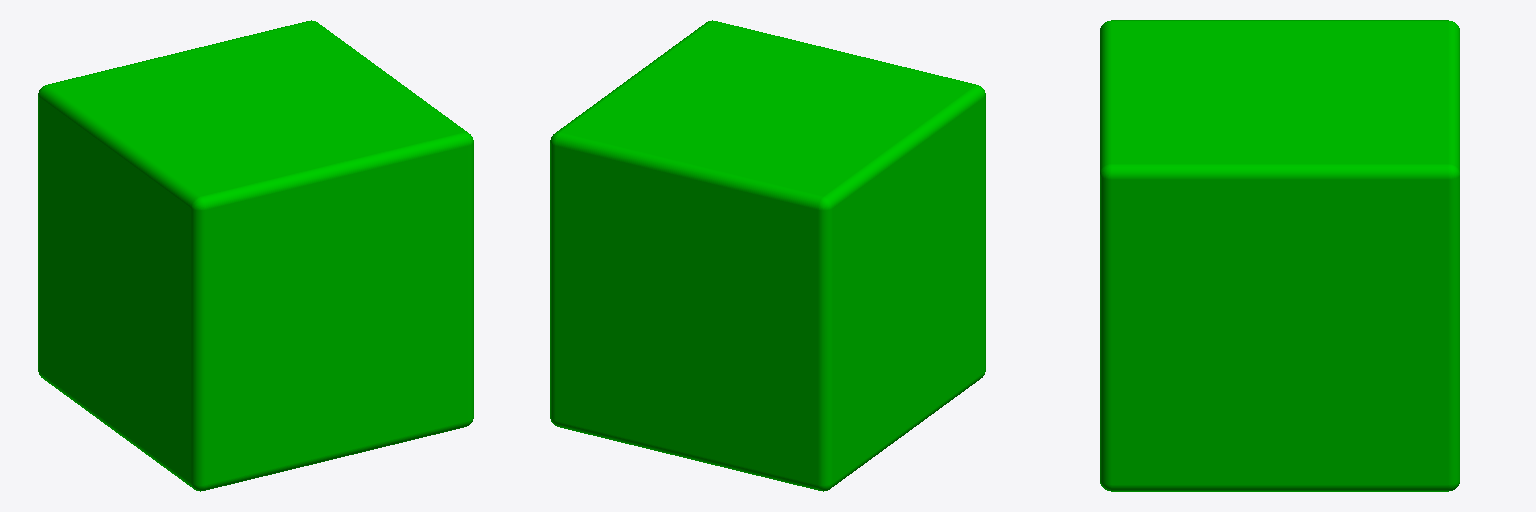
The robot description file, URDF, robot "real_cube_60mm_fillet":
<robot name="real_cube_60mm_fillet">
	<link name="object">
		<visual>
			<origin rpy="0.0 0.0 0.0" xyz="-0.6000000122150946 -0.5999999336499596 -0.5999999079672326" />
			<geometry>
				<mesh filename="real_cube_60mm_fillet/cube_fillet.obj" scale="0.02 0.02 0.02" />
			</geometry>
			<material name="texture">
				<color rgba="0 0.8 0.0 1.0" />
			</material>
		</visual>
		<collision>
			<origin rpy="0.0 0.0 0.0" xyz="-0.6000000122150946 -0.5999999336499596 -0.5999999079672326" />
			<geometry>
				<mesh filename="real_cube_60mm_fillet/cube_fillet_vhacd.obj" scale="0.02 0.02 0.02" />
			</geometry>
		</collision>
		<inertial>
			<mass value="0.010" />
			<inertia ixx="1.0" ixy="0.0" ixz="0.0" iyy="1.0" iyz="0.0" izz="1.0" />
		</inertial>
	</link>
</robot>

--- Facts derived from the render (not from the file) ---
Views: 3 orthographic renders of the robot side by side, from view 1: azimuth 30°, elevation 25°; view 2: azimuth 150°, elevation 25°; view 3: azimuth 270°, elevation 25°.
Model real_cube_60mm_fillet with 1 links and 0 joints (none), rooted at object, posed all joints at 0.
Links seen in each view (by area): view 1: object; view 2: object; view 3: object.
Boxes of the visible links, box(x1,y1,x2,y2) form: object: box(38, 20, 473, 491); object: box(550, 20, 985, 491); object: box(1100, 20, 1459, 491).
Bounding box of the posed robot: 1.2 × 1.2 × 1.2 m (x, y, z).
Meshes: 1 distinct files referenced, 1 mesh visuals loaded (1 OBJ).